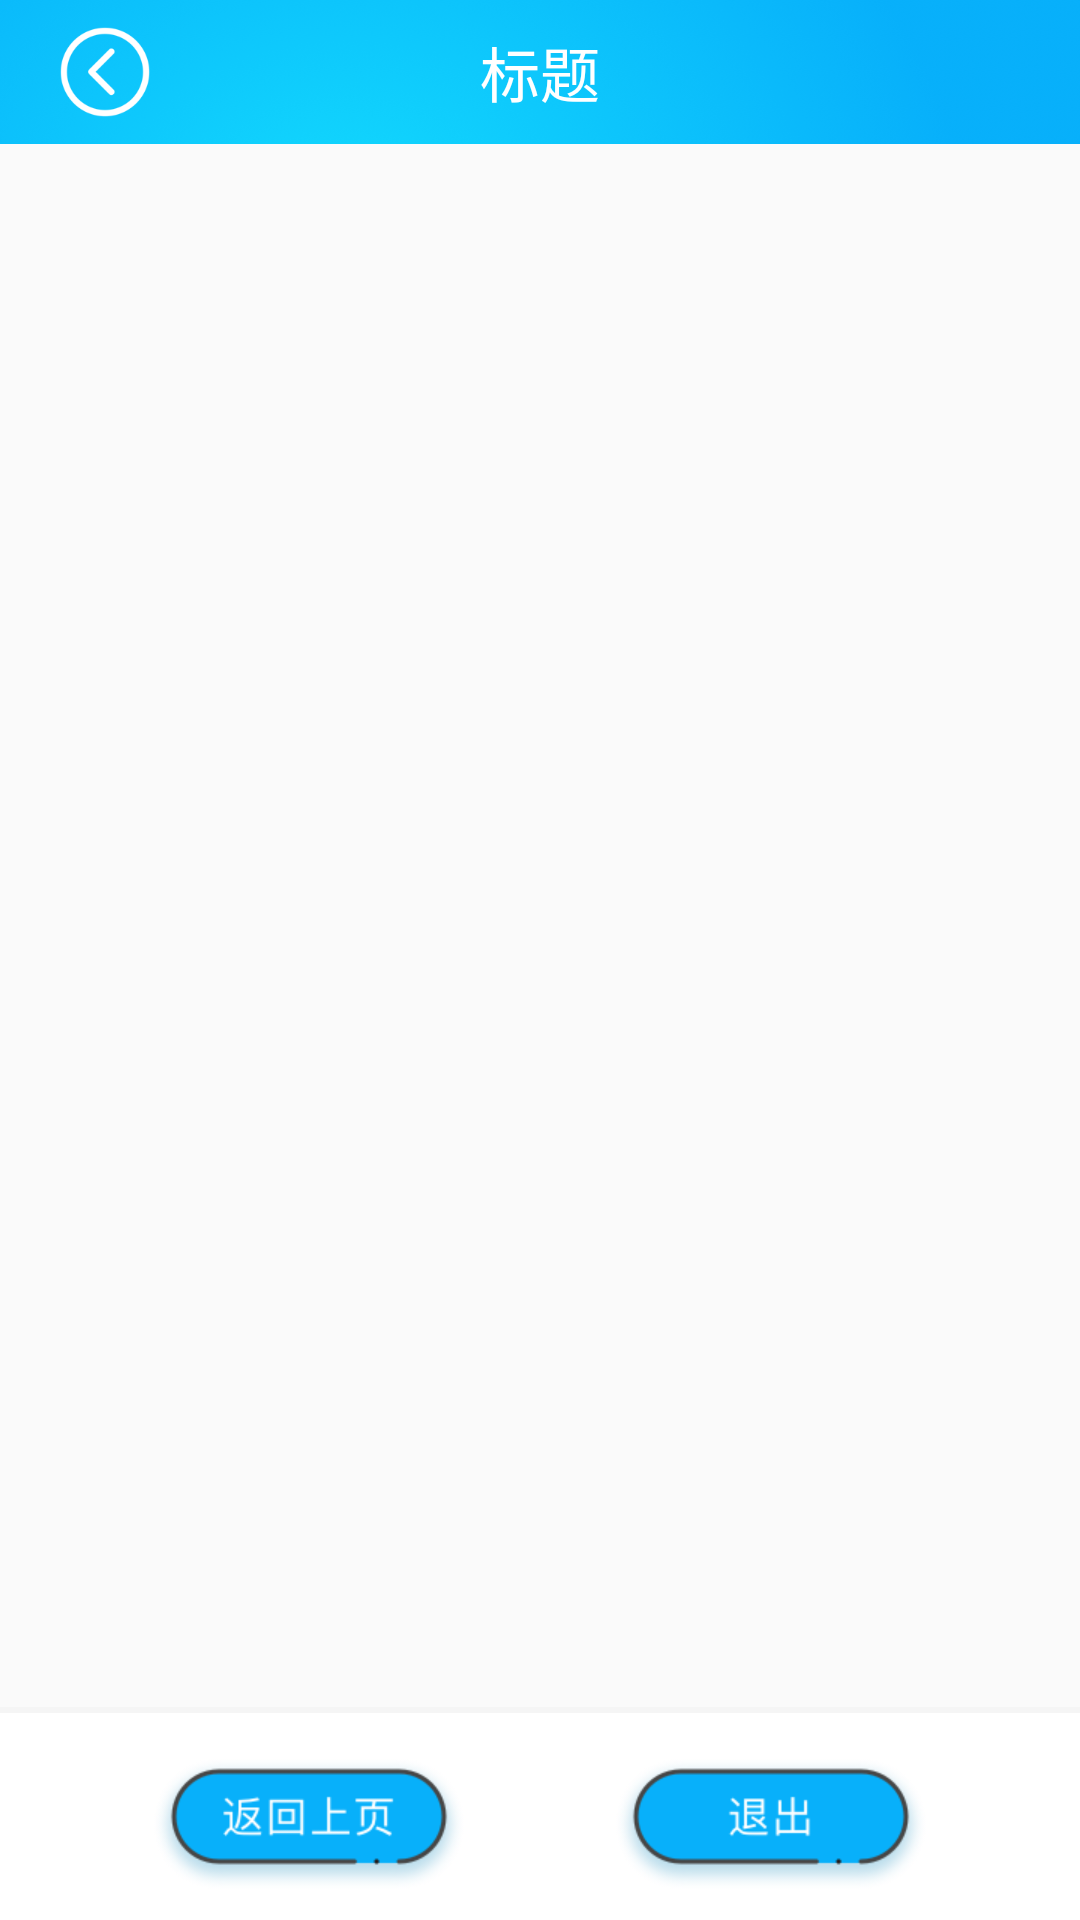

Point at icon controls on the screen. Image size 1080px×1920px, points as (x,y).
back: (105,72)
